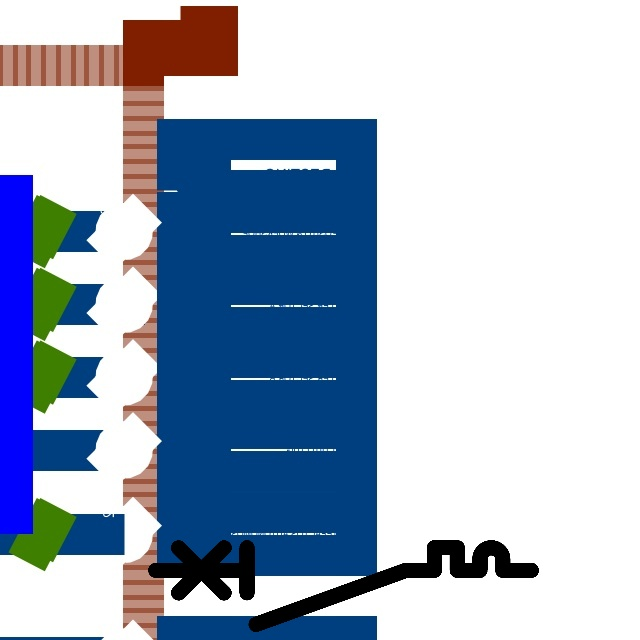interruptor_termomagnetico: (146, 538, 541, 634)
